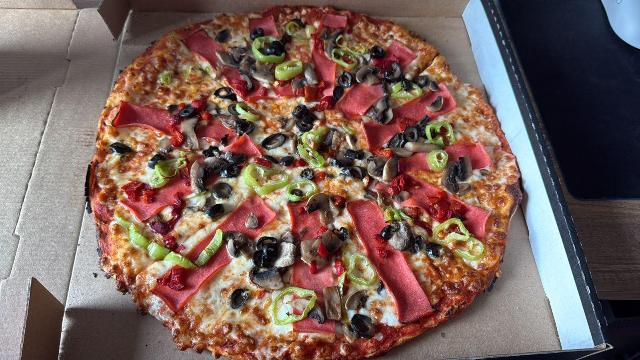Kagit: (0, 280, 69, 360), (86, 0, 144, 44)
Organik: (81, 2, 524, 358), (114, 98, 178, 133), (119, 178, 150, 206), (305, 193, 333, 221), (427, 118, 453, 147), (272, 57, 301, 81), (354, 315, 372, 338), (244, 214, 258, 229), (181, 103, 191, 122)
